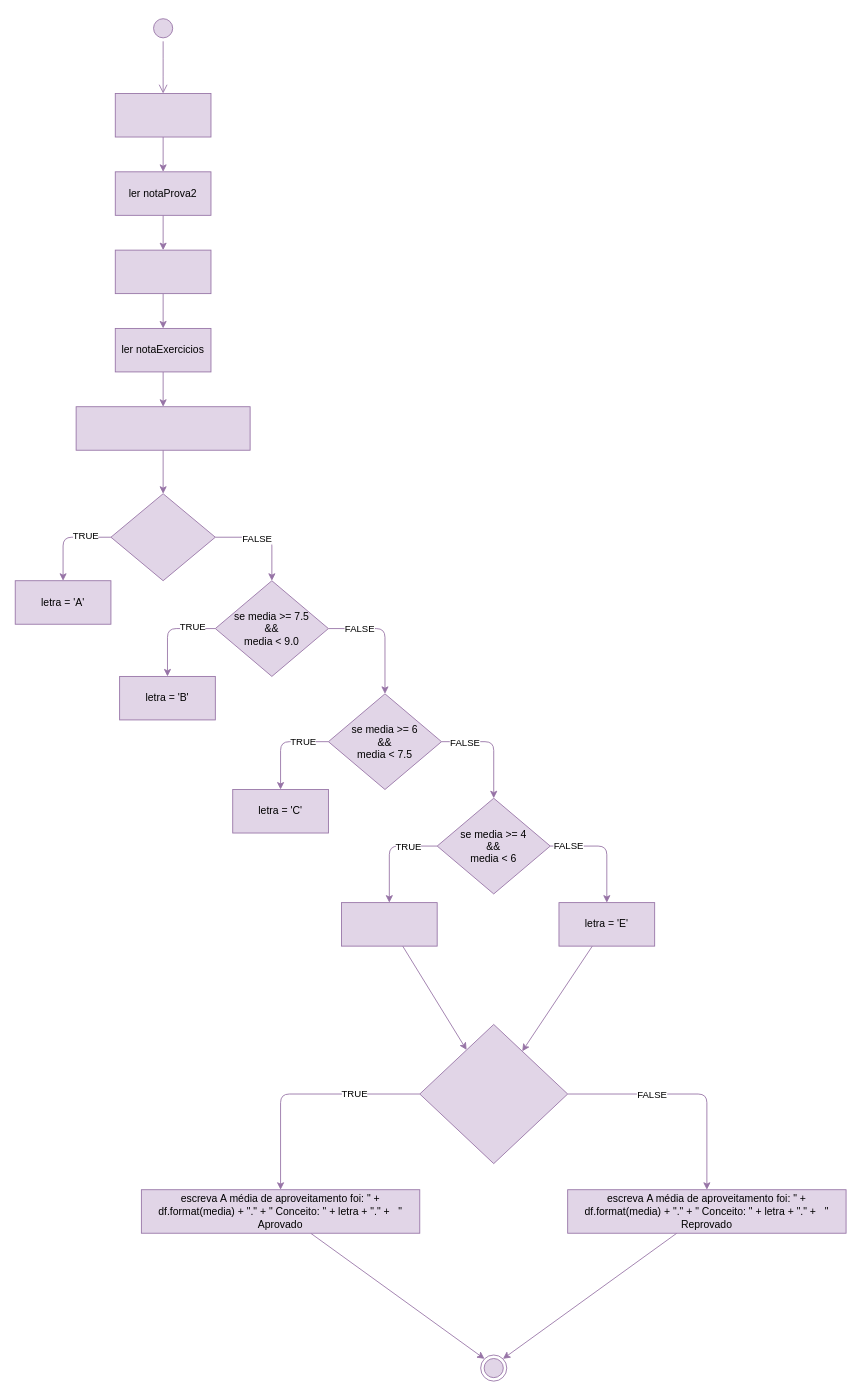
Some shapes in this 861 by 1396 pixel diagram are drawn without their labels. Each missing label, with the centre of its shape:
"ler notaProva1" belongs at [162,115].
"ler notaProva3" belongs at [162,271].
"letra = 'D'" belongs at [389,924].
"media = (notaProva1 + notaProva2 * notaProva3 * 3 + notaExercicios) / 7" belongs at [162,428].
"se letra == 'A' || letra == 'B' || letra == 'C'" belongs at [493,1094].
"se media >= 9.0" belongs at [162,537].
